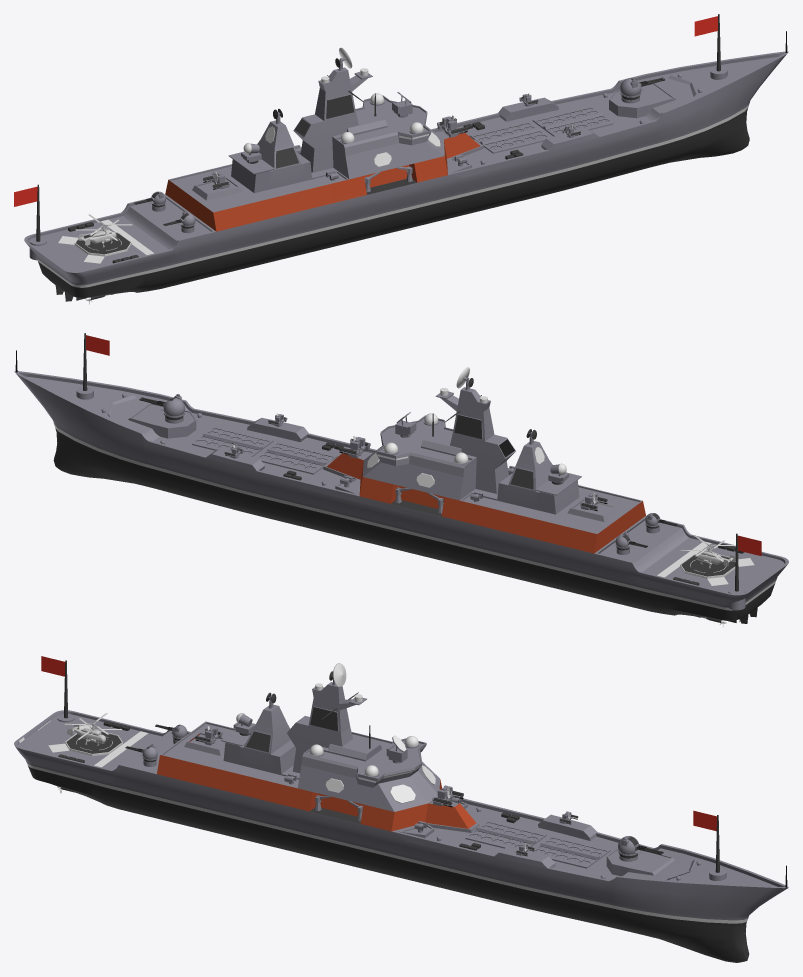
Rendered from Medium_merah.fbx.
3 renders of one model, top to bottom at view 1: azimuth 30°, elevation 25°; view 2: azimuth 150°, elevation 25°; view 3: azimuth 330°, elevation 25°, orthographic.
Parts seen in each view (by area): view 1: Hull, MainTower, VLS, VLS.001, AK-150.002, KA27main-FACES.001, AK-150.001; view 2: Hull, MainTower, VLS, VLS.001, AK-150.002, AK-150.001, KA27main-FACES.001; view 3: Hull, MainTower, VLS.001, VLS, AK-150.002, AK-150.001, KA27main-FACES.001.
Boxes of the visible parts, <box> form: Hull: <box>24,51,788,297</box>; MainTower: <box>293,67,372,172</box>; VLS: <box>469,121,548,153</box>; VLS.001: <box>532,106,613,136</box>; AK-150.002: <box>134,191,195,233</box>; KA27main-FACES.001: <box>75,214,132,247</box>; AK-150.001: <box>620,77,665,103</box>; Hull: <box>14,371,788,620</box>; MainTower: <box>435,387,515,493</box>; VLS: <box>257,442,337,474</box>; VLS.001: <box>192,426,273,456</box>; AK-150.002: <box>615,513,677,554</box>; AK-150.001: <box>139,394,184,423</box>; KA27main-FACES.001: <box>681,535,735,568</box>; Hull: <box>14,704,788,962</box>; MainTower: <box>287,682,366,773</box>; VLS.001: <box>531,836,610,868</box>; VLS: <box>465,820,546,849</box>; AK-150.002: <box>125,724,187,766</box>; AK-150.001: <box>618,836,663,861</box>; KA27main-FACES.001: <box>64,713,122,745</box>.
Bounding box in the file's own units: 452 × 113 × 53.04.
